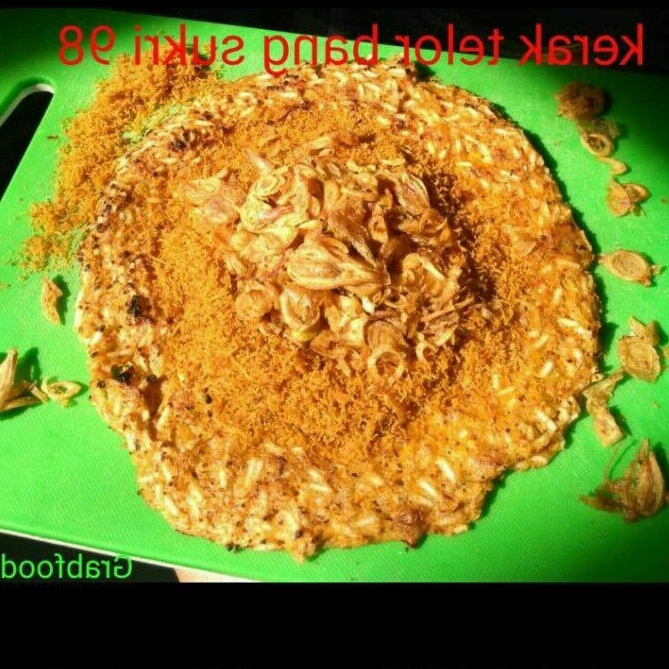kerak_telor: (75, 73, 598, 558)
